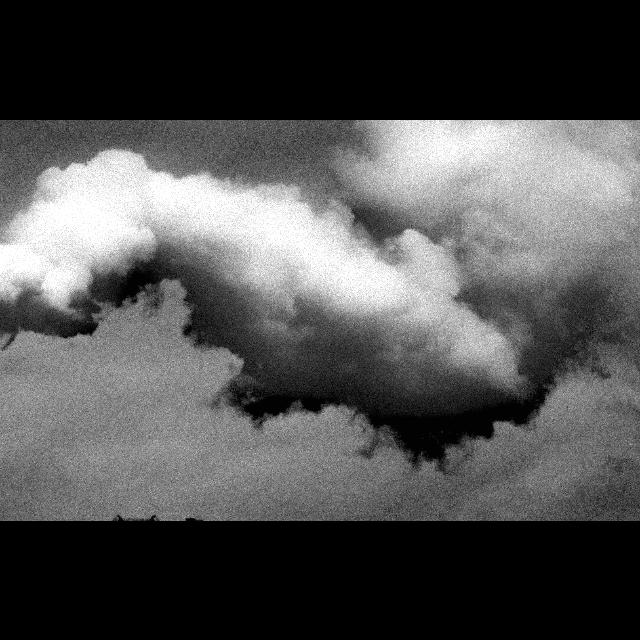smoke: (0, 119, 640, 458)
